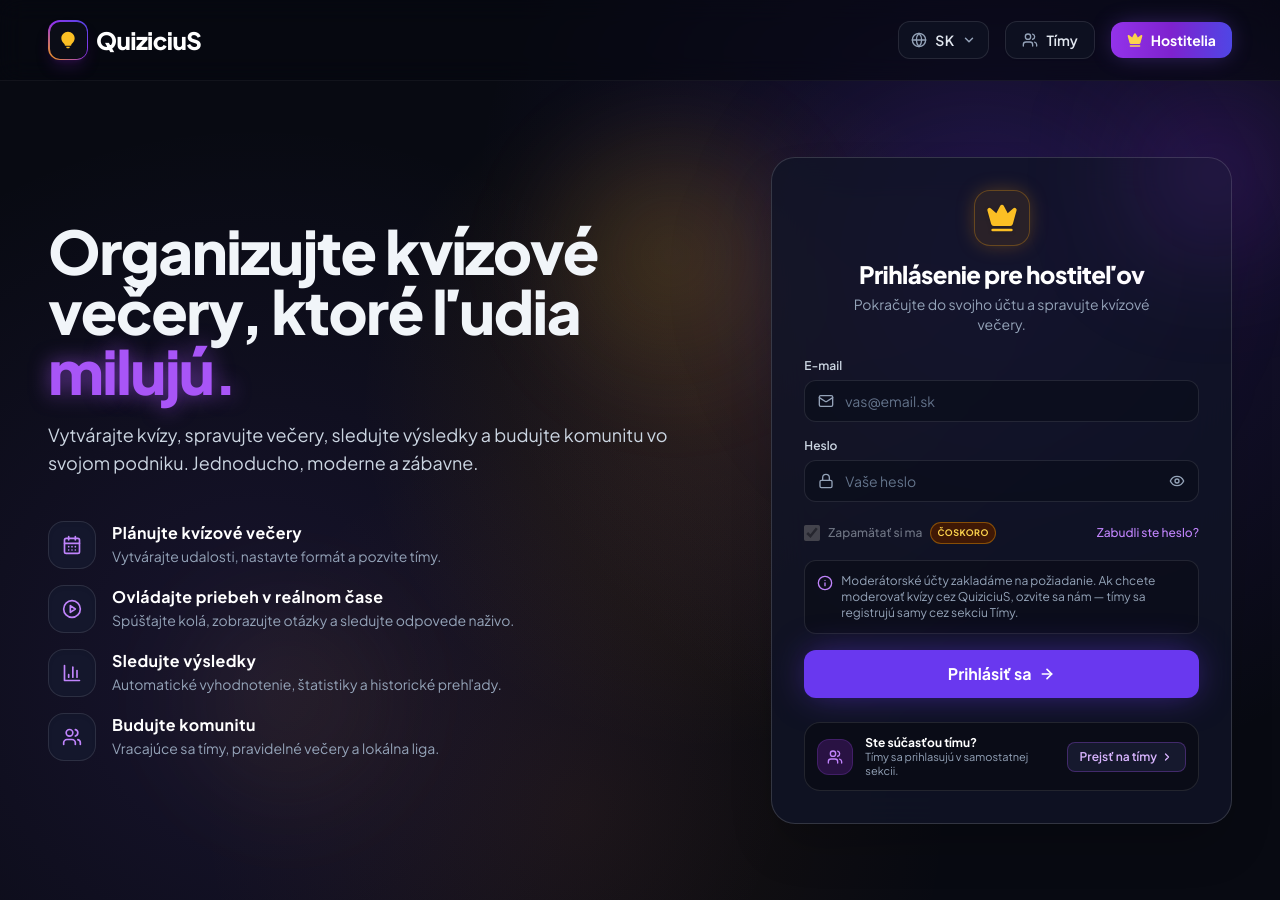
Test: LandingPage host card › sends a password reset link from the recovery mode
Step 1. Click the button with test id "host-forgot-password" → [1148, 533], box x1=1097 y1=525 x2=1199 y2=541
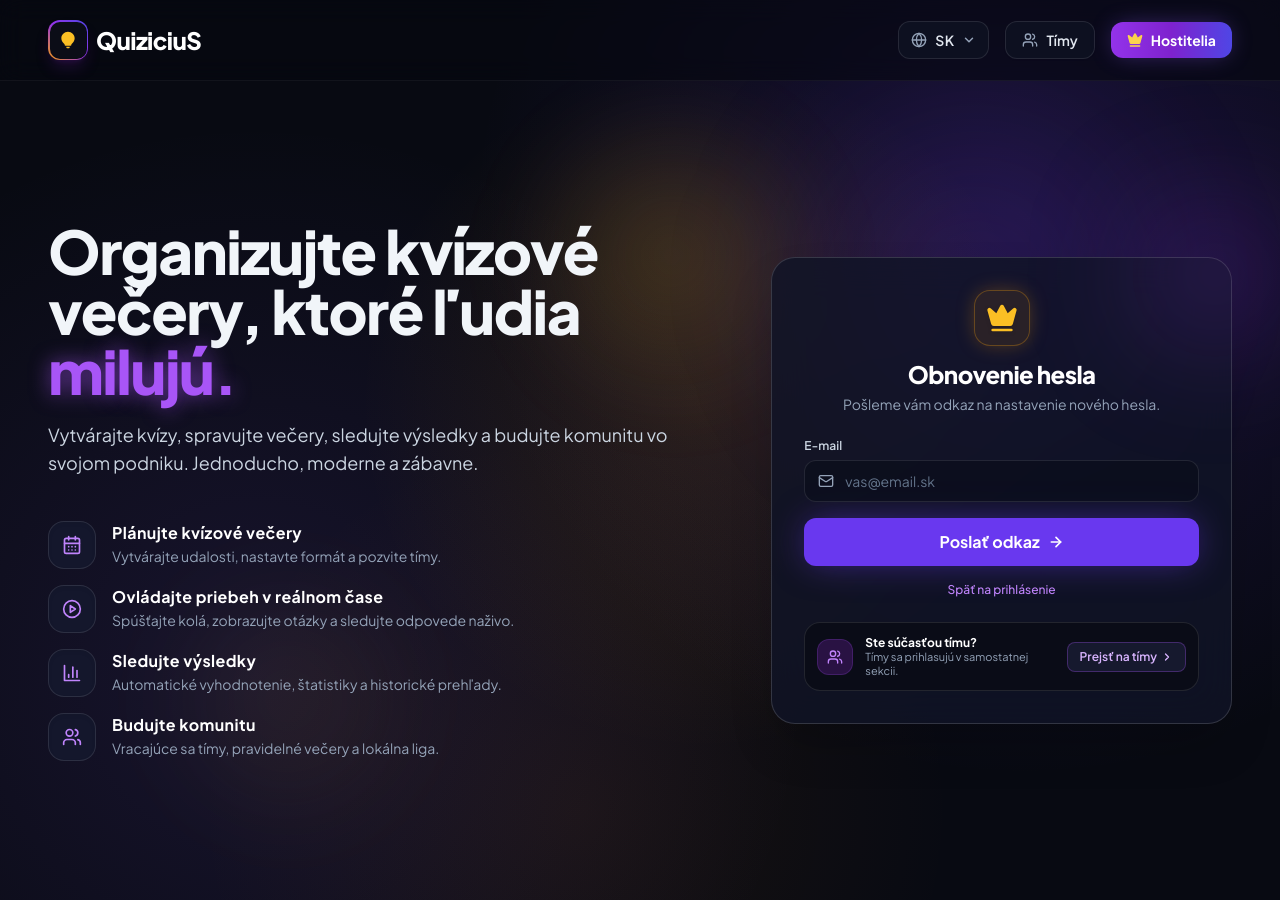
Expected: the password field with test id "host-password" is gone
Step 2. Type "host@example.com" into the field with test id "host-email" → [1002, 481], box x1=804 y1=460 x2=1199 y2=502
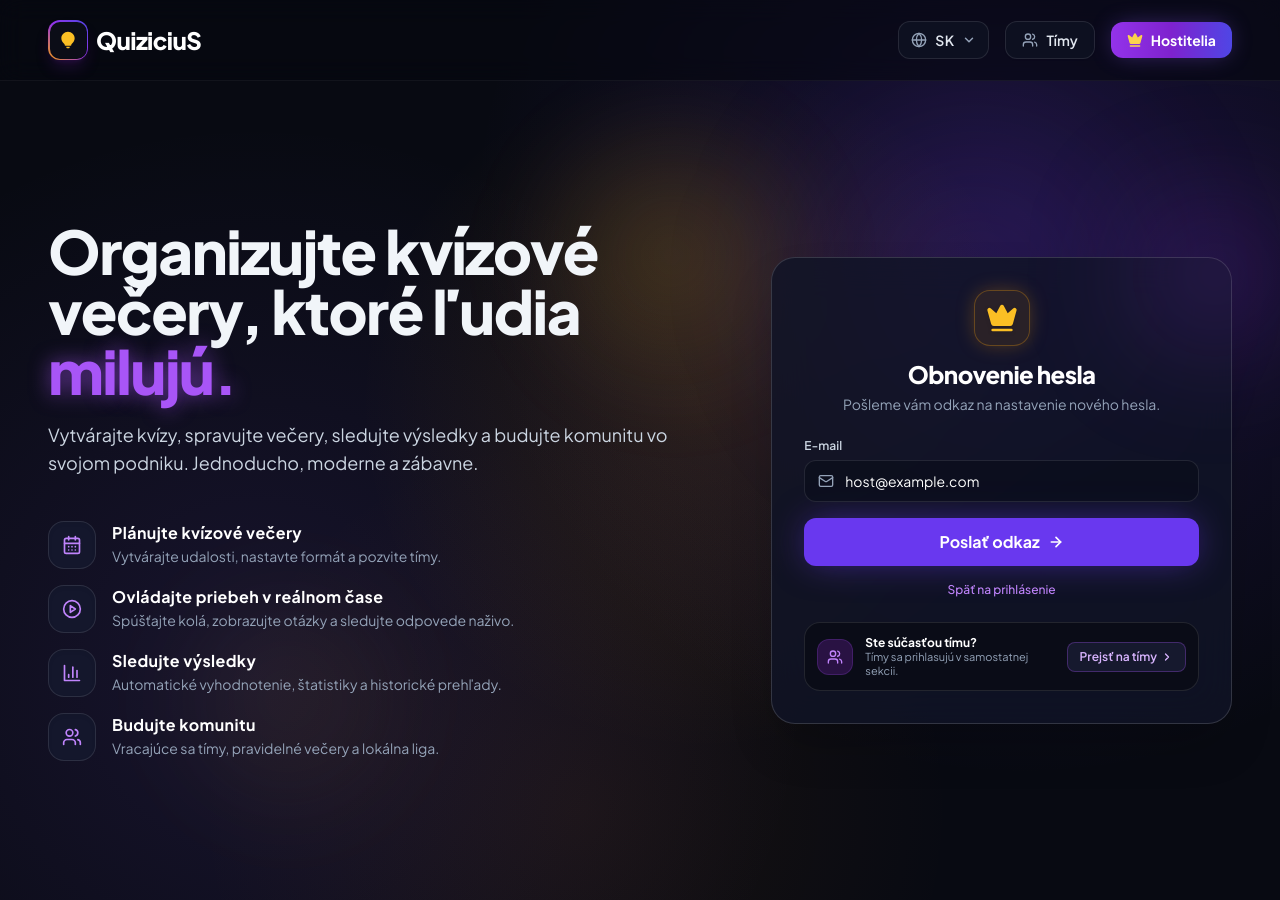
Step 3. Submit the form with test id "host-auth-form", box x1=804 y1=438 x2=1199 y2=598
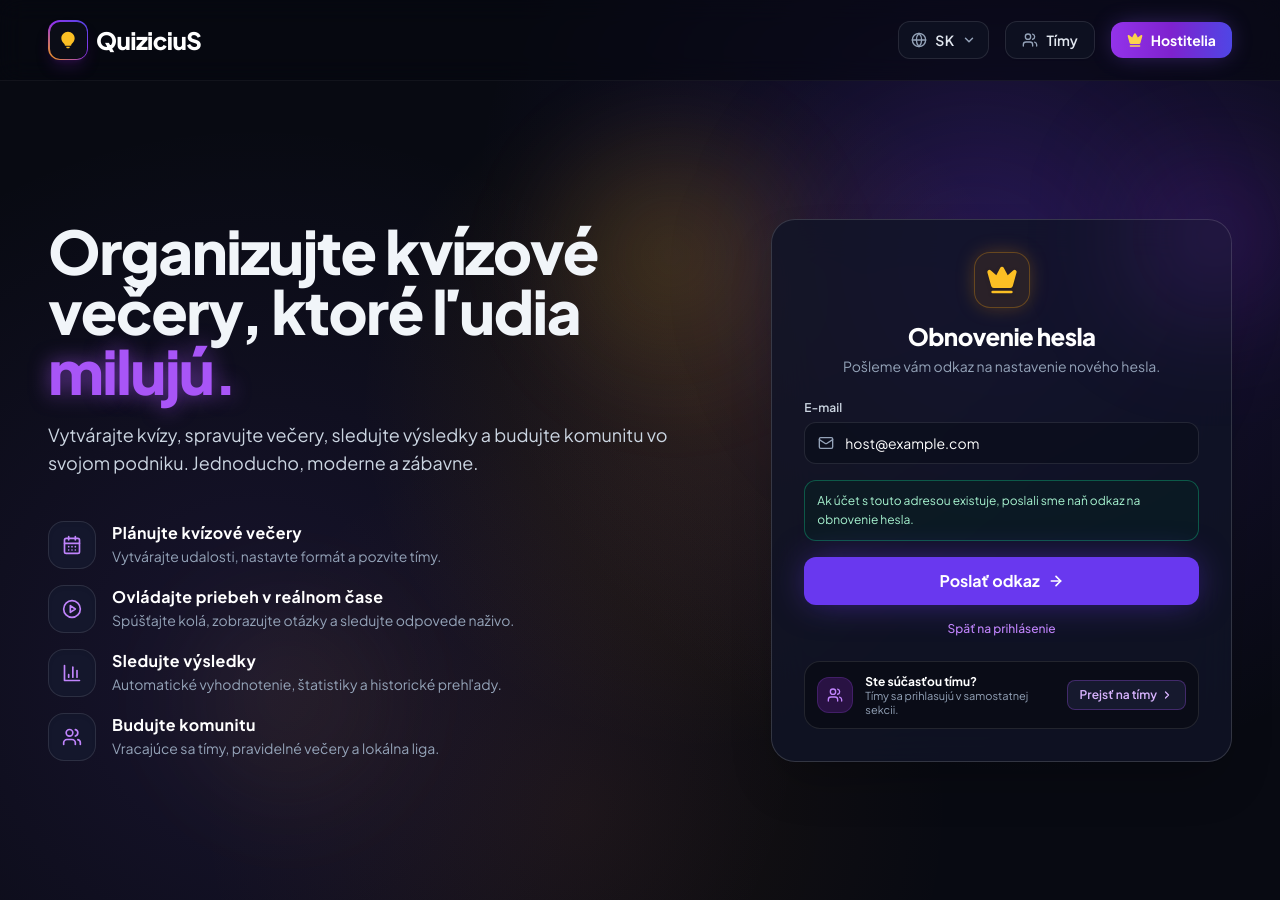
Expected: the message "Ak účet s touto adresou existuje, poslali sme naň odkaz na obnovenie hesla." is shown, x1=804 y1=480 x2=1199 y2=541
